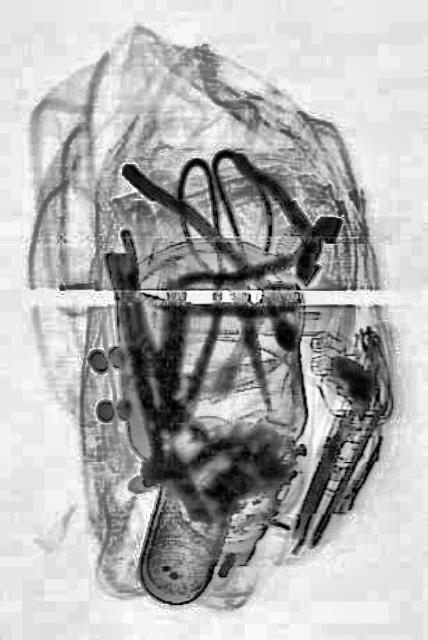Scissors: (166, 129, 316, 429)
